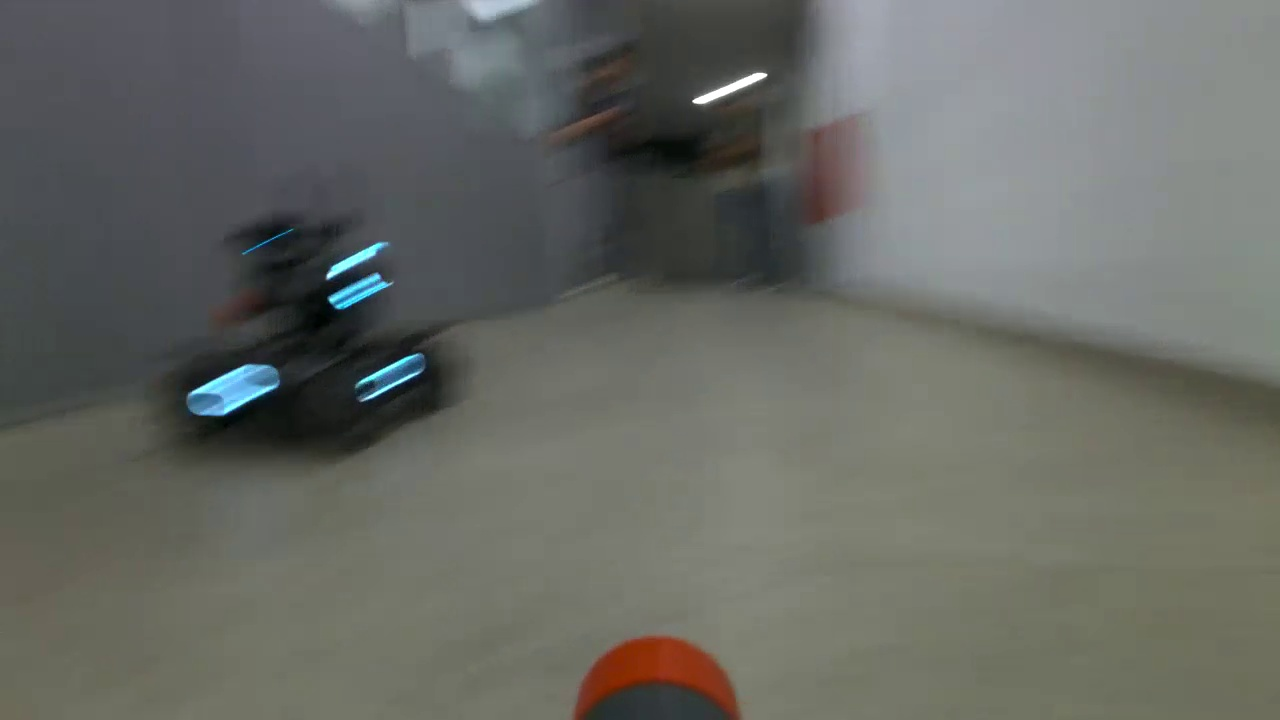robot: (160, 209, 467, 463)
